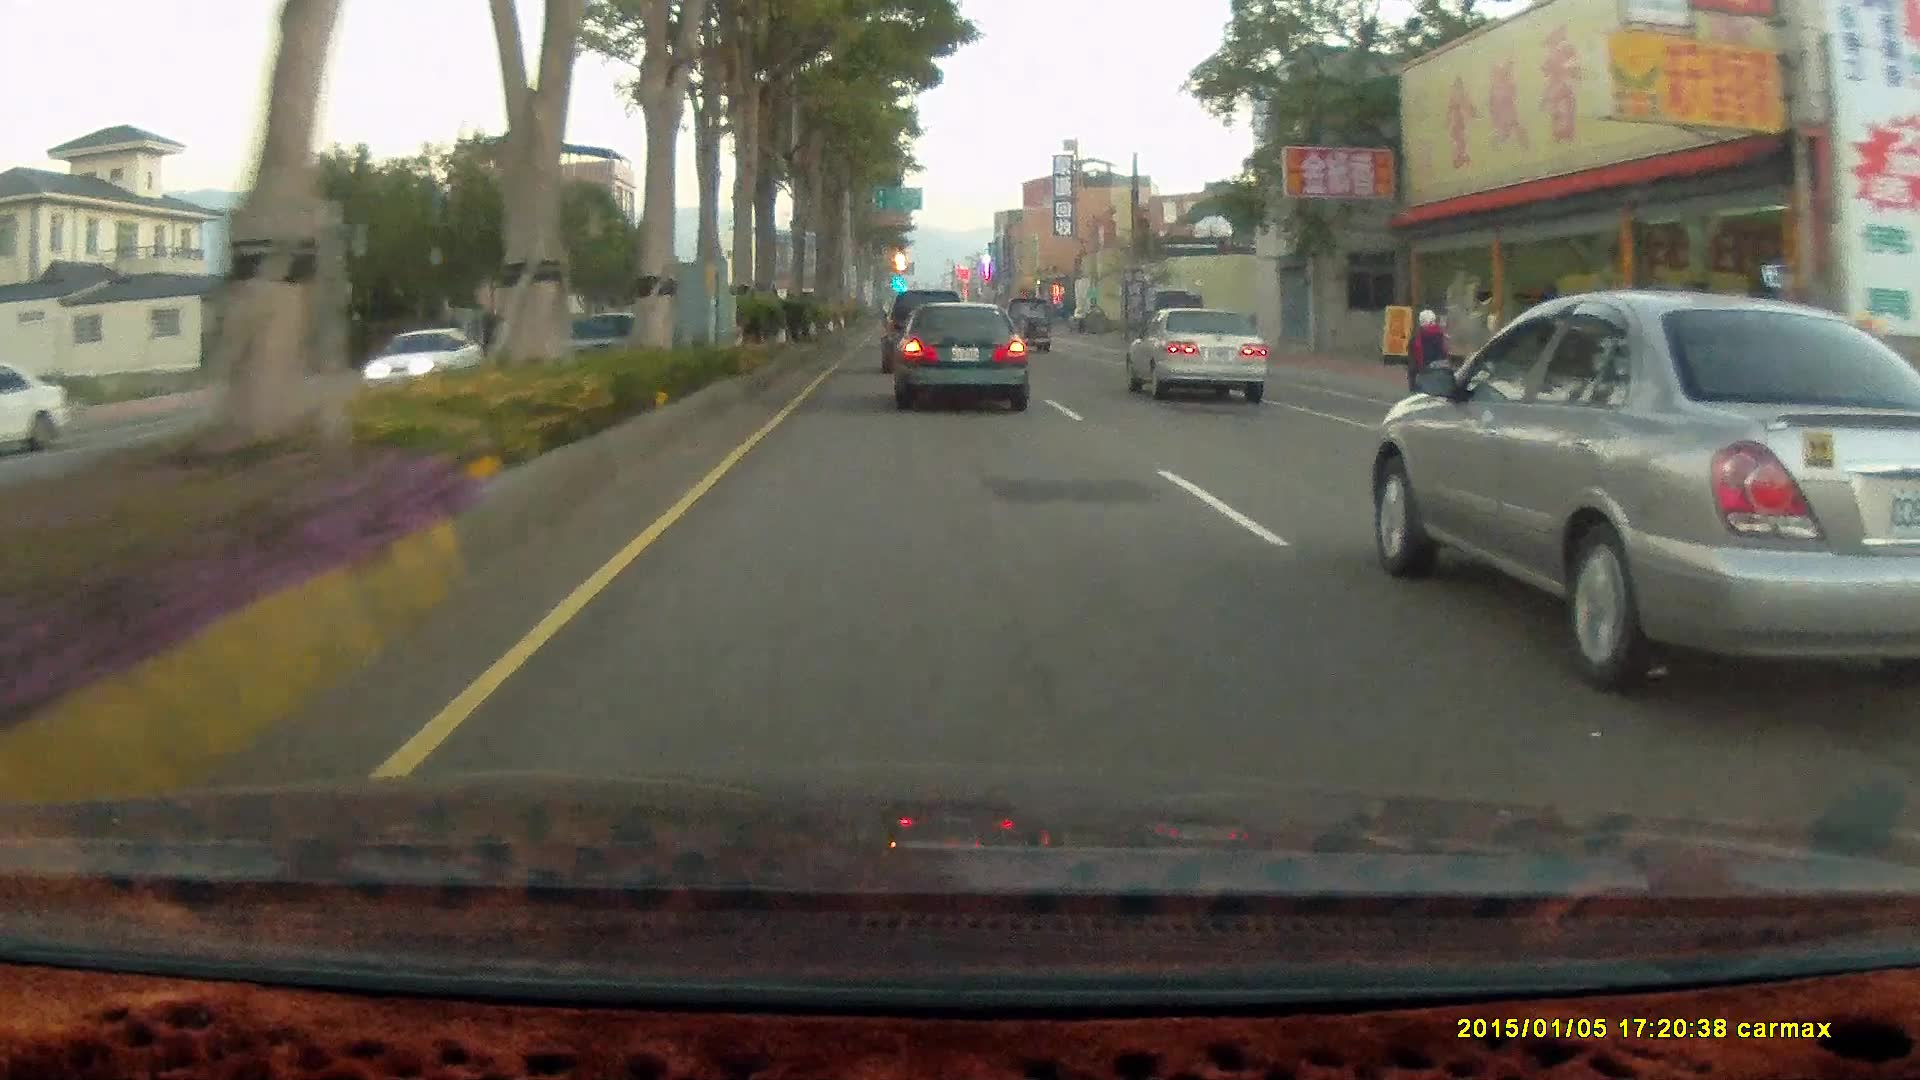rider: (1387, 299, 1467, 429), (1397, 303, 1457, 412)
vehicle: (1361, 289, 1920, 699), (892, 295, 1035, 414), (887, 297, 1027, 409), (1122, 306, 1273, 409), (1122, 302, 1266, 401), (360, 322, 485, 391), (360, 321, 485, 385), (883, 285, 971, 371), (1, 362, 74, 459), (882, 289, 965, 372), (1142, 290, 1205, 350), (1003, 293, 1052, 353)
